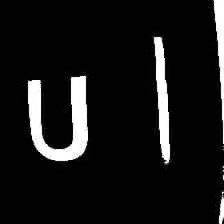LTR_U: (19, 68, 103, 167)
